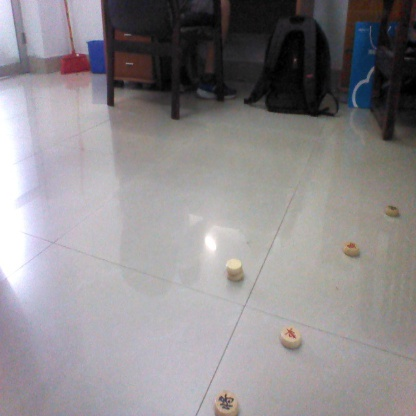chess: (210, 385, 239, 414), (225, 258, 248, 281), (279, 323, 303, 345), (380, 202, 401, 217), (343, 241, 362, 255)
